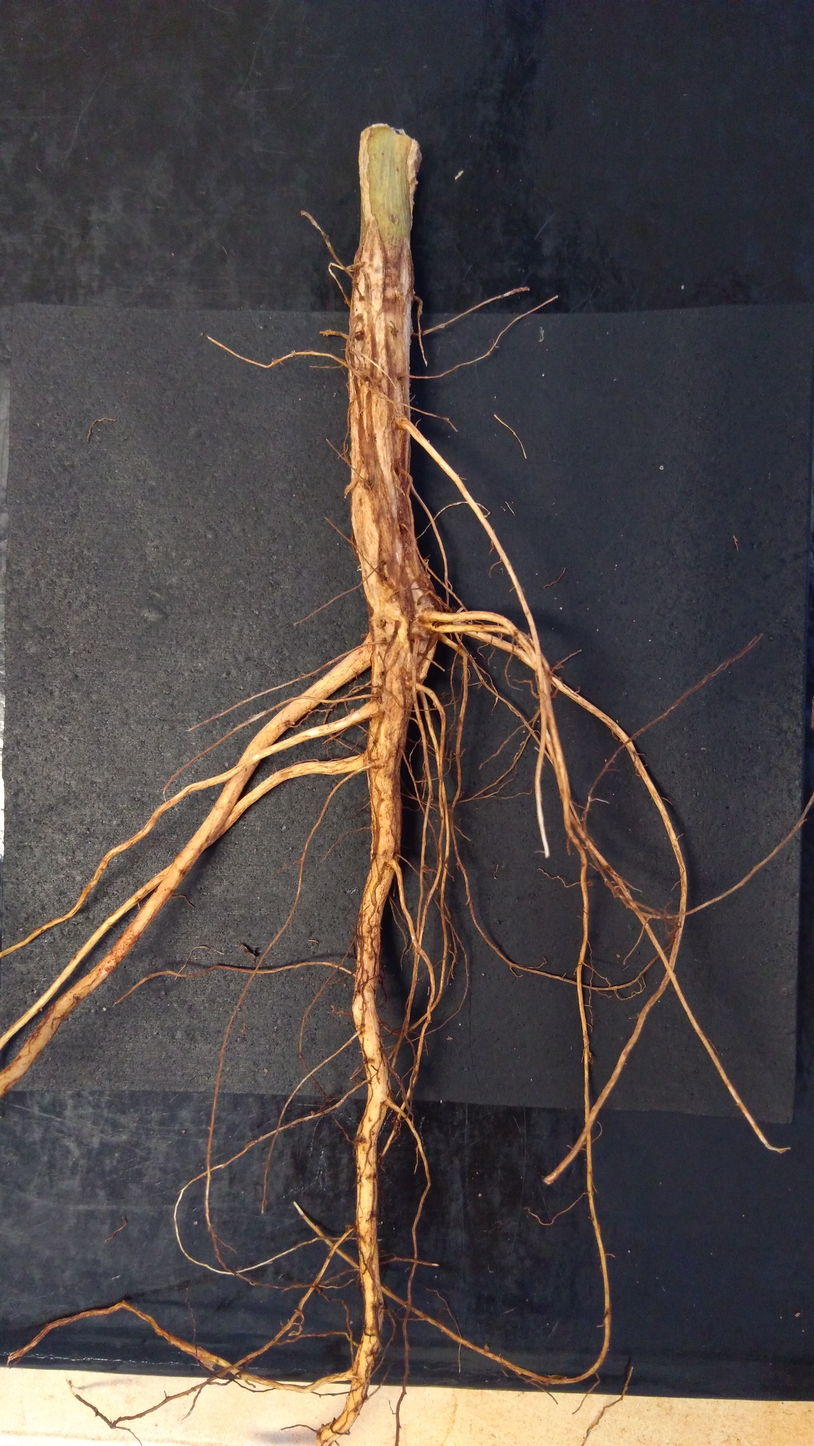nodule: (344, 1223, 354, 1238), (346, 263, 355, 272), (483, 1342, 490, 1352), (360, 632, 368, 639), (310, 1110, 316, 1116)
